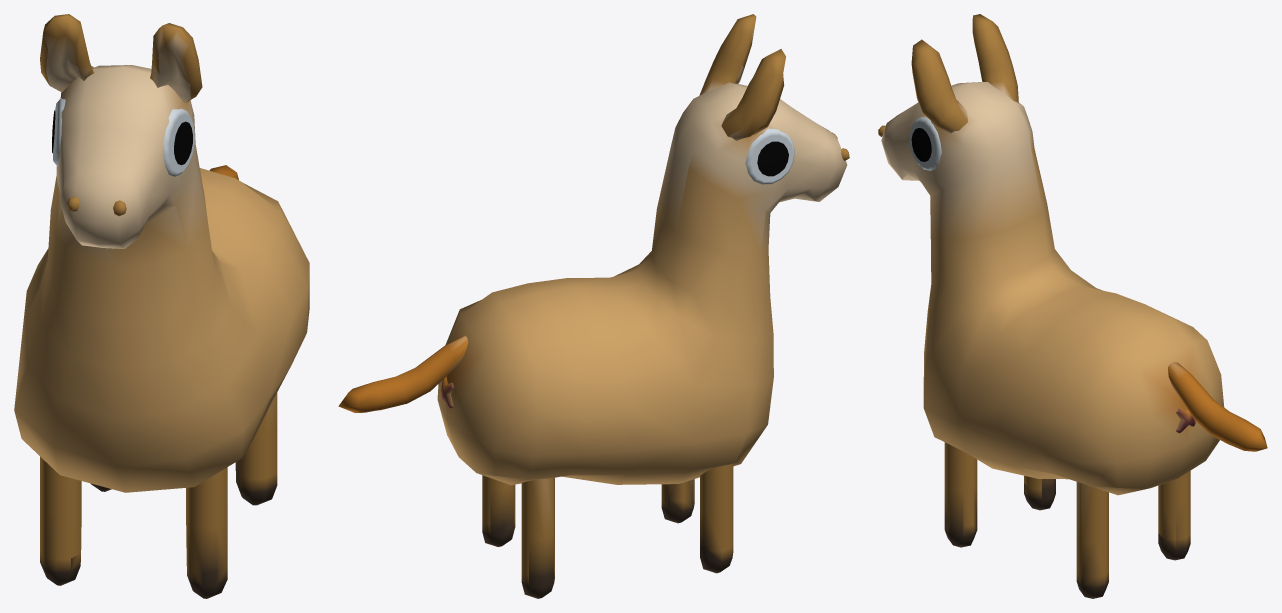
The model's file is Llama.glb.
3 renders of one model, left to right at view 1: azimuth 30°, elevation 25°; view 2: azimuth 150°, elevation 25°; view 3: azimuth 270°, elevation 25°, orthographic. The views are drawn at different scales.
Parts seen in each view (by area): view 1: 93; view 2: 93; view 3: 93.
Boxes of the visible parts, x1,y1,x2,y2 form: 93: (14, 14, 309, 598); 93: (338, 14, 849, 598); 93: (878, 14, 1267, 598).
Size of the model in its own units: 0.8346 by 1.25 by 0.9203.
